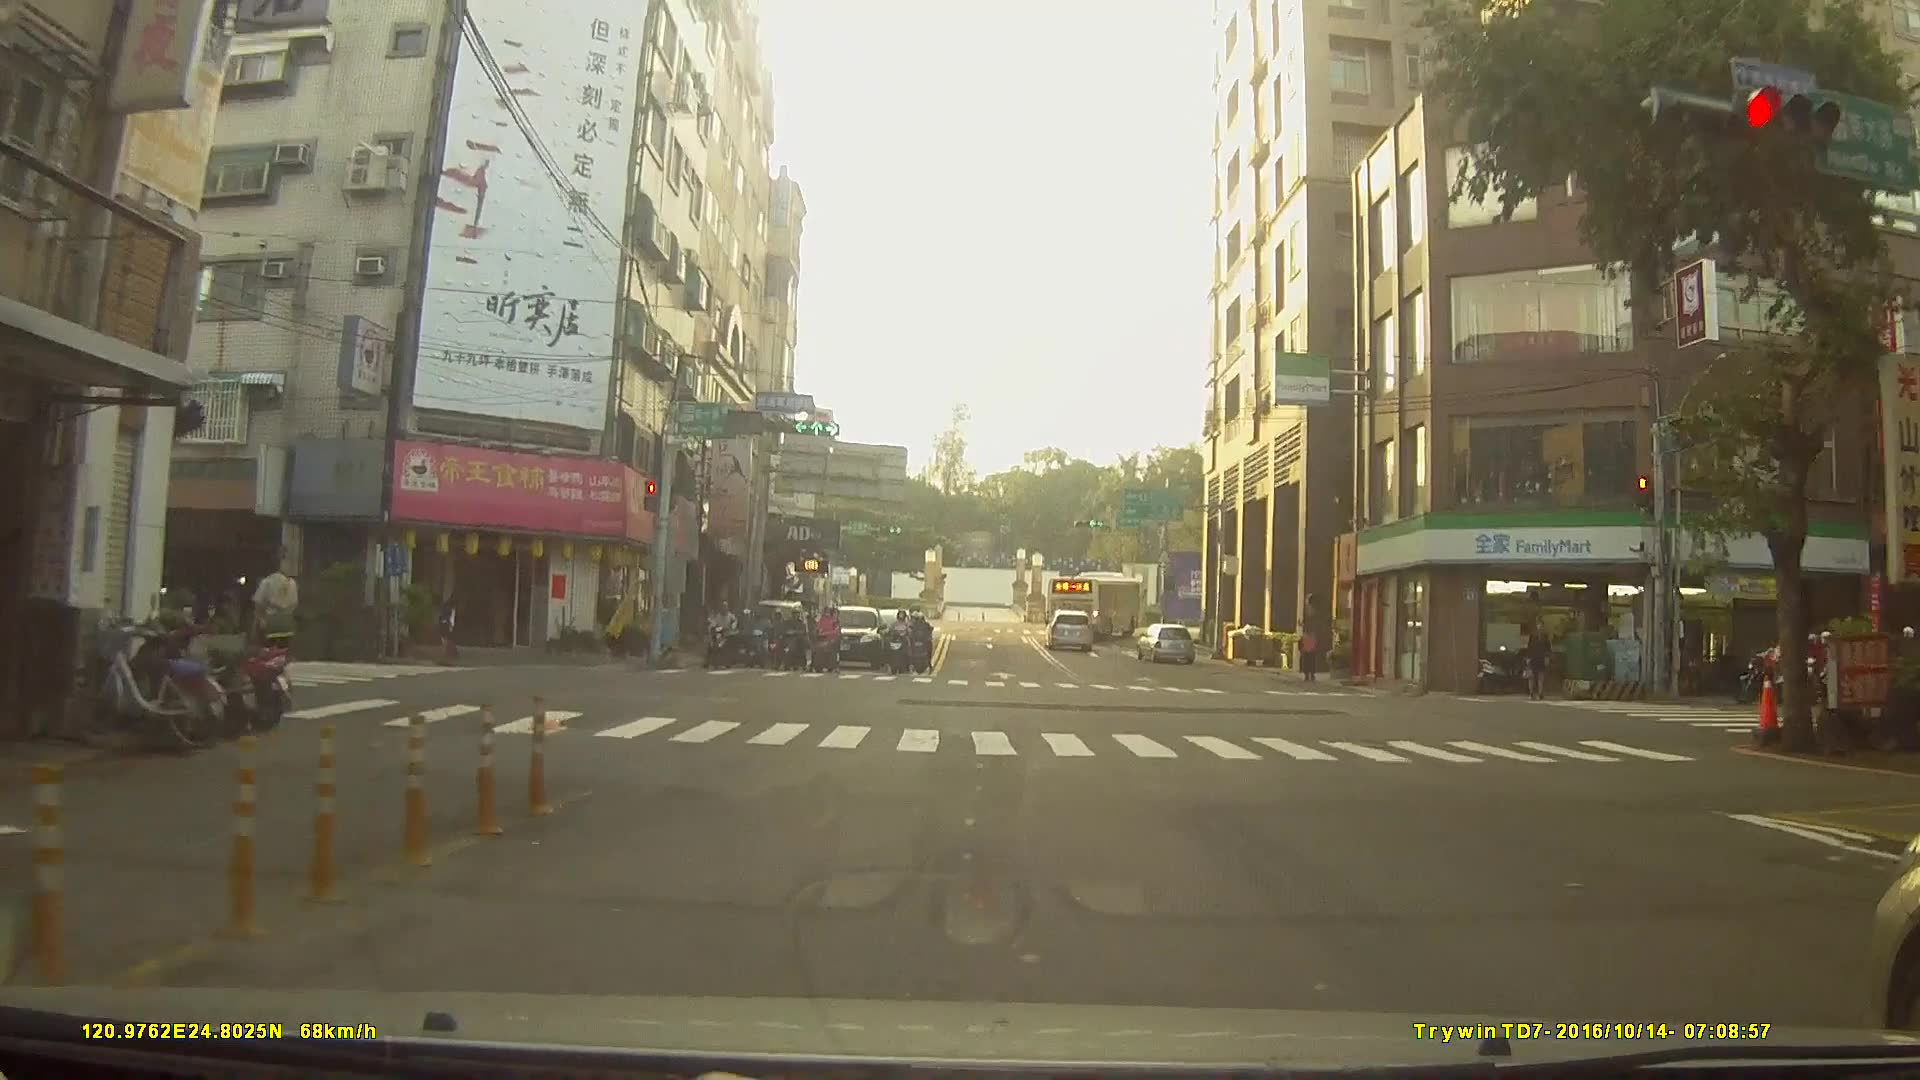pedestrian: (246, 540, 306, 690), (1528, 623, 1556, 700), (439, 596, 465, 662), (1296, 622, 1320, 681)
rider: (812, 603, 845, 674), (705, 601, 740, 669), (778, 605, 810, 668), (910, 604, 937, 670), (745, 595, 774, 655), (888, 607, 913, 675)
vehicle: (1043, 573, 1143, 634), (816, 598, 887, 668), (1133, 620, 1195, 661), (1045, 607, 1096, 651)
